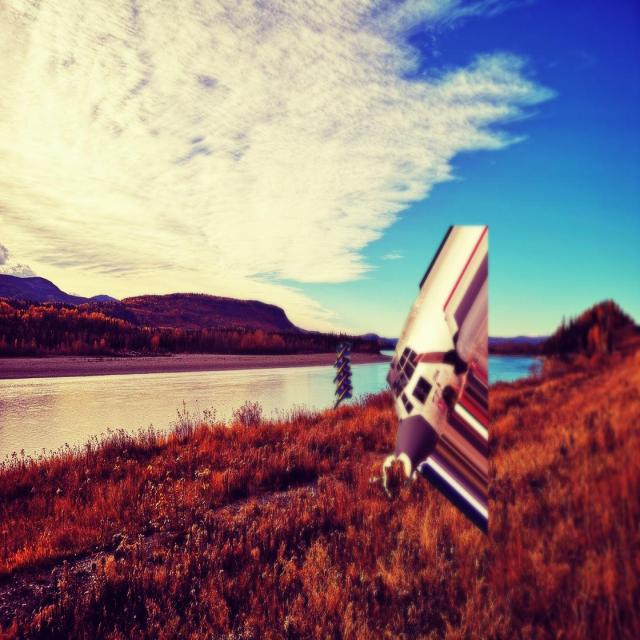airplane: (370, 223, 491, 535)
